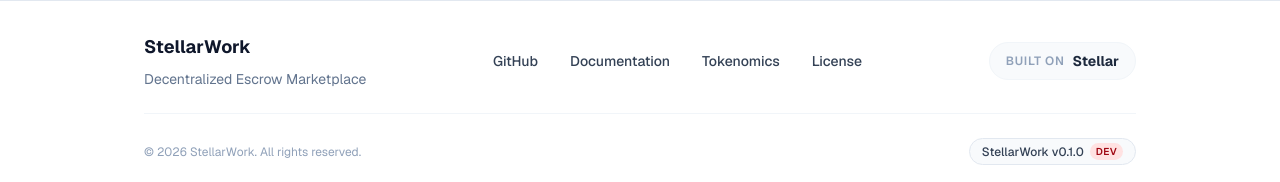
Test: AppFooter version display › hides tooltip after blur
Focus the button with aria-label "App version". click: (1052, 152)
box: [969,138,1136,165]
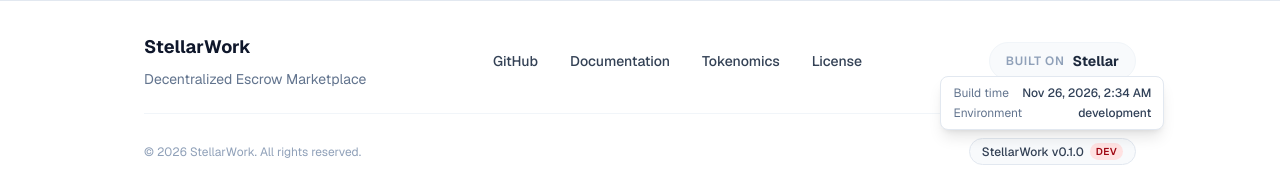
Leave the button with aria-label "App version", box [969,138,1136,165]
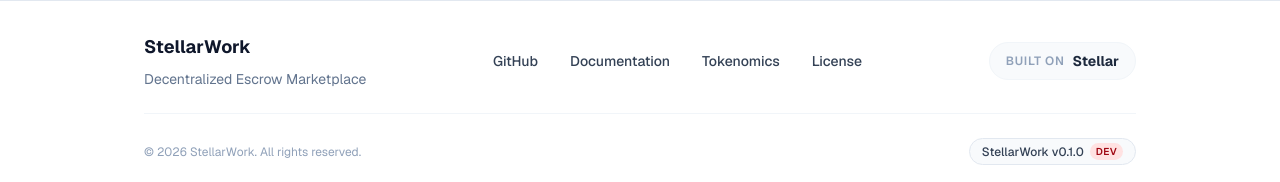
Now the tooltip "Build time Nov 26, 2026, 2:34 AM Environment development" is gone
